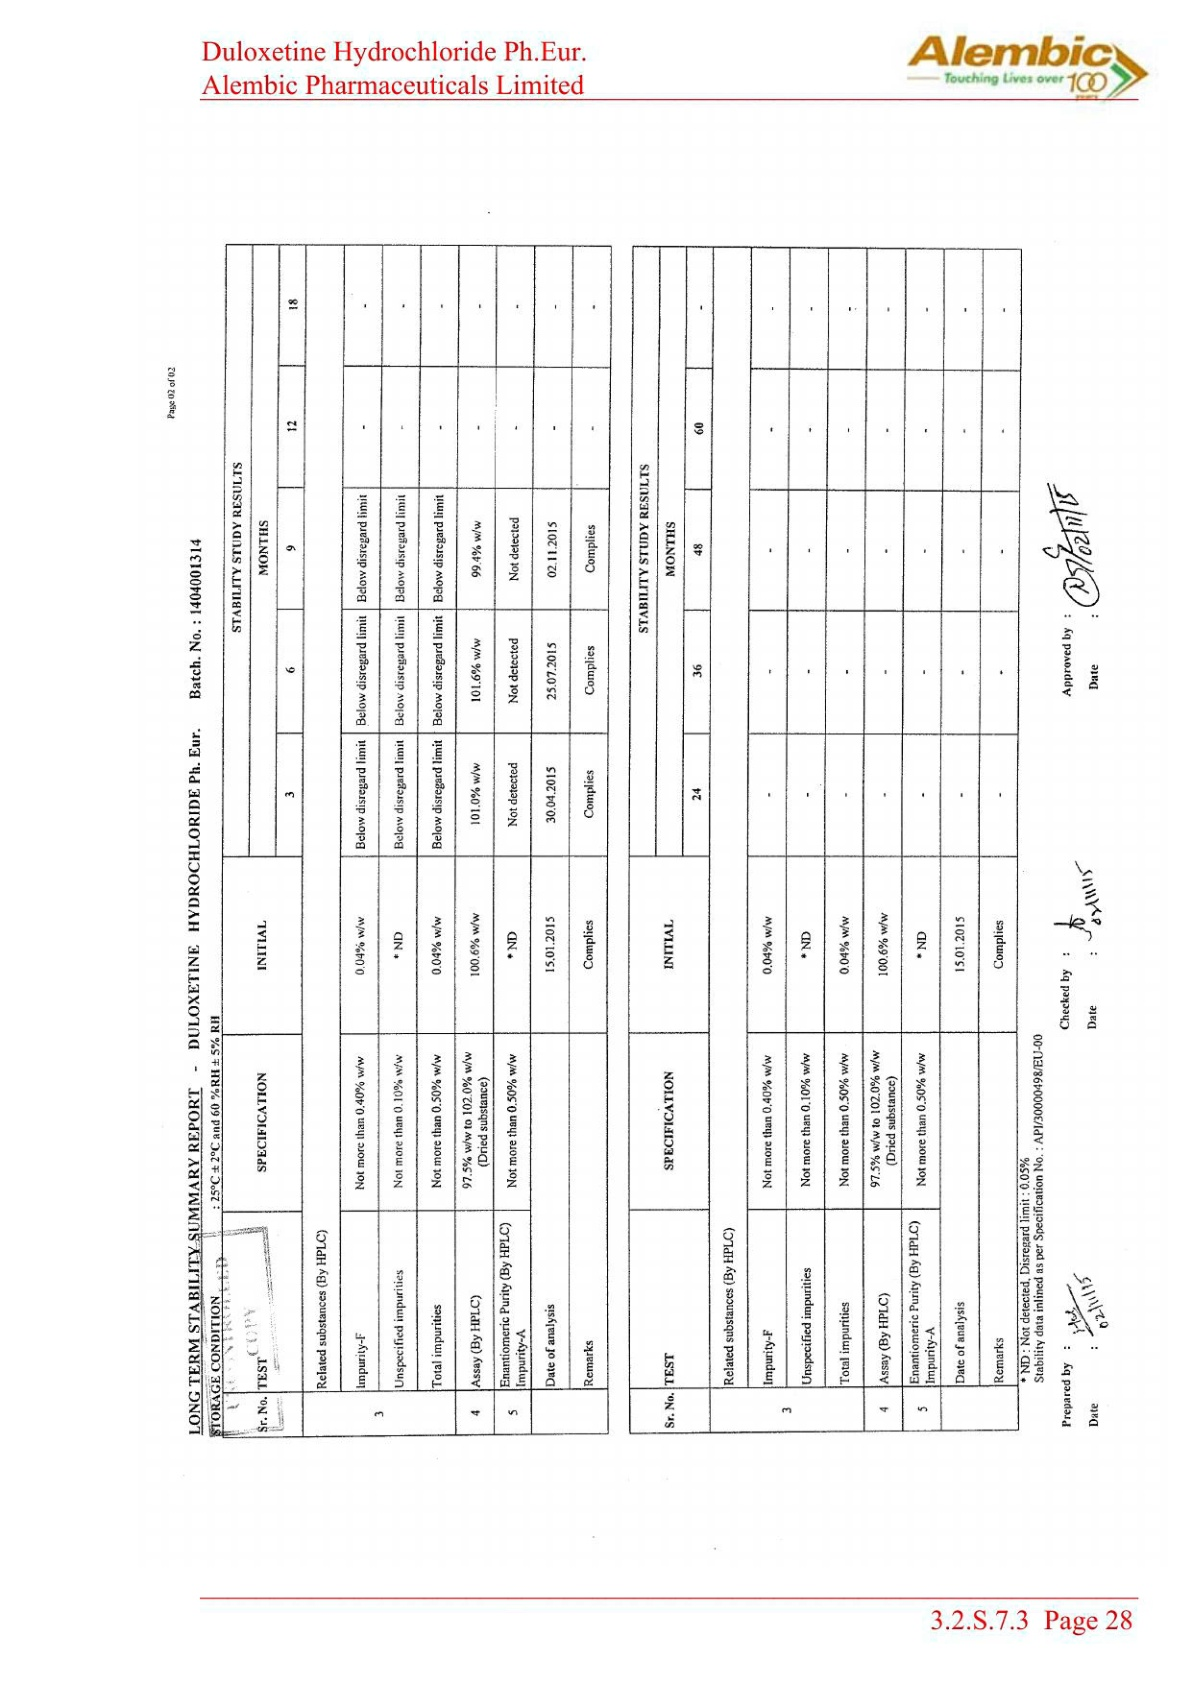partial_lined_merged_cells: (627, 244, 1023, 1436), (221, 242, 613, 1440)
